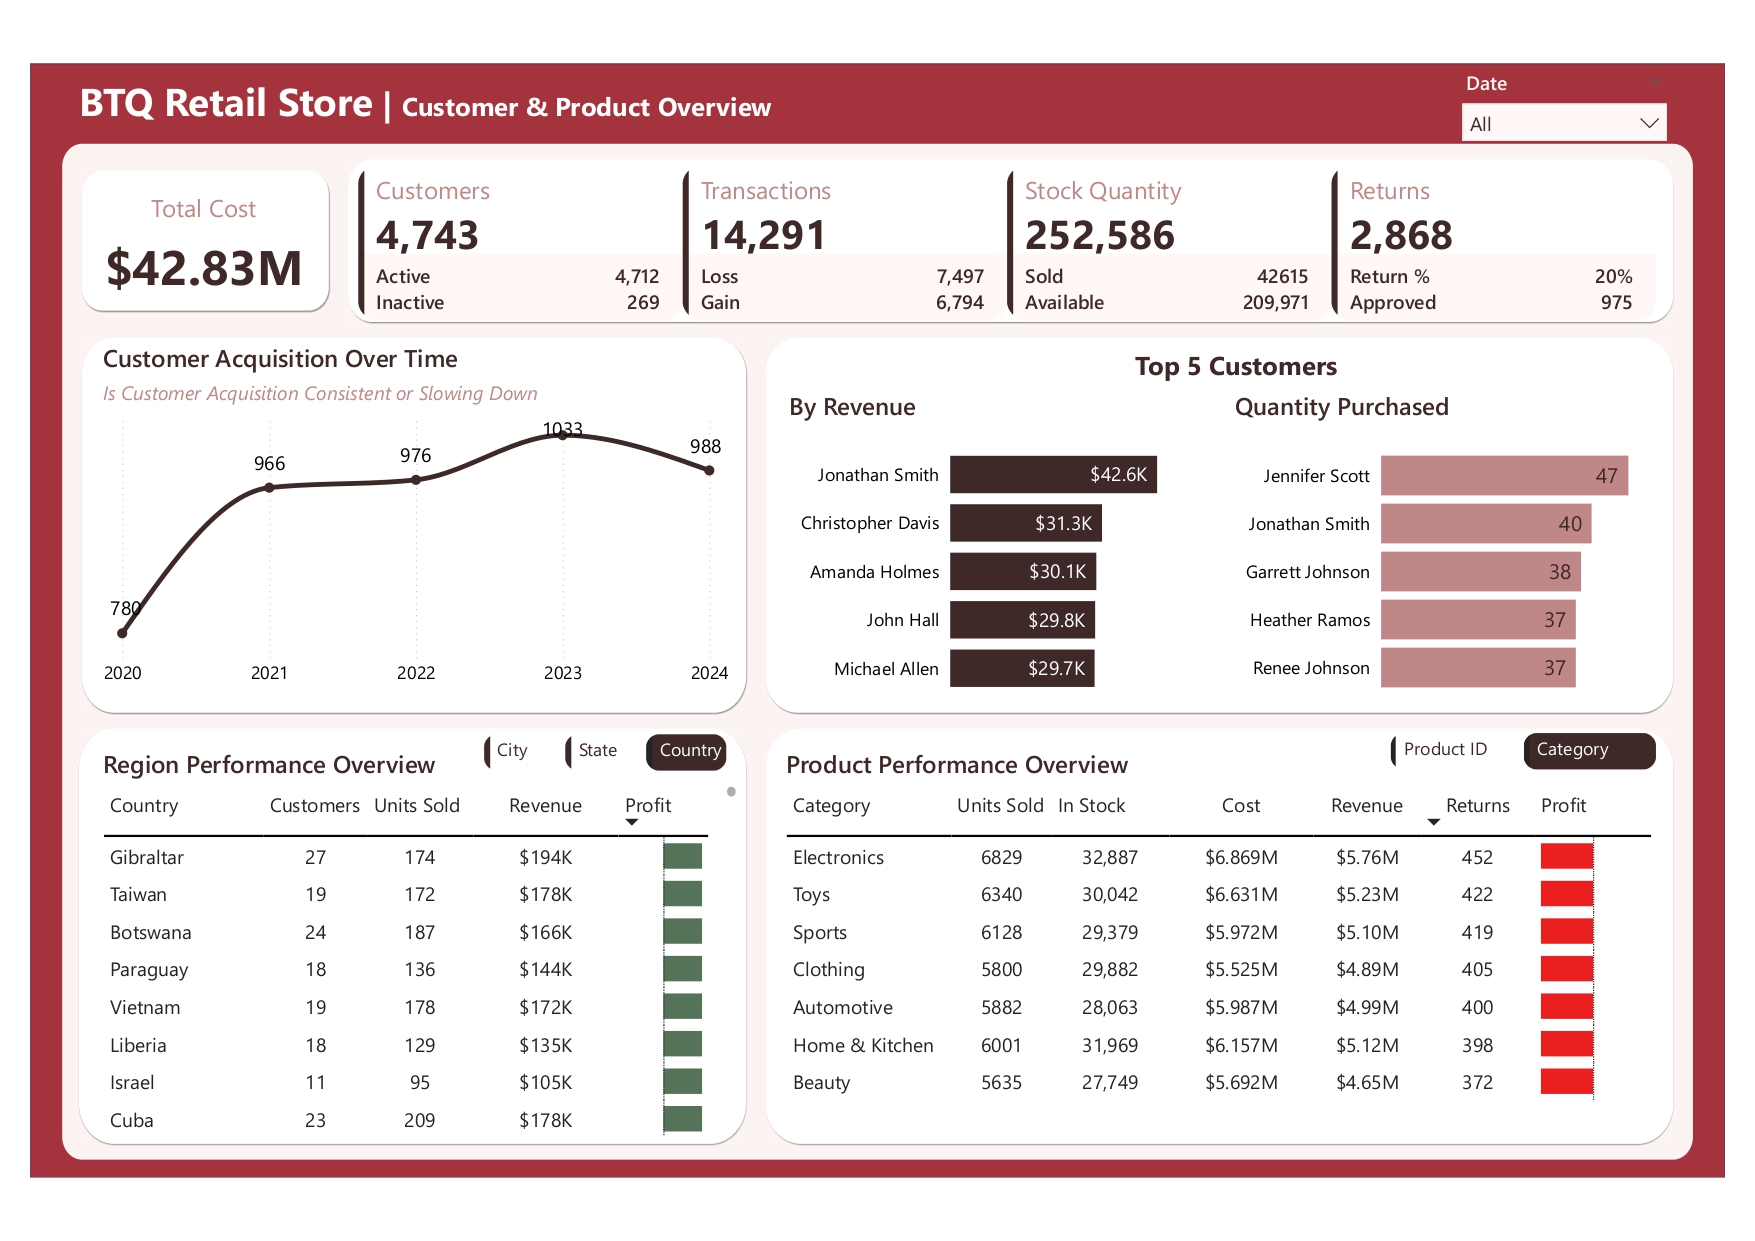

Layout of this report page (visuals, bound fields, positions):
{"tool":"powerbi","page":{"name":"Page 1","canvas":[1400,920],"ordinal":0},"visuals":[{"type":"tableEx","title":"Region Performance Overview","fields":{"Values":["Customers.Country","New Measures.Total Customers","New Measures.Total Units Sold","New Measures.Total Revenue","New Measures.Total Profit"]},"box":[55.2,563.7,533.6,326.2],"z":0},{"type":"textbox","box":[35.1,3.3,669.1,65.2],"z":1000},{"type":"cardVisual","fields":{"Data":["New Measures.Total Customers","New Measures.Total Transactions","New Measures.Total Stock Quantity","New Measures.Total Returns"]},"box":[266,78.6,1082.3,138.8],"z":2000},{"type":"lineChart","title":"Customer Acquisition Over Time","fields":{"Y":["CountNonNull(Customers.Customer ID)"],"Category":["Customers.Registration Date.Variation.Date Hierarchy.Year","Customers.Registration Date.Variation.Date Hierarchy.Quarter","Customers.Registration Date.Variation.Date Hierarchy.Month","Customers.Registration Date.Variation.Date Hierarchy.Day"]},"box":[55.2,229.2,526.9,294.4],"z":3000},{"type":"barChart","title":"By Revenue","fields":{"Category":["Customers.Name"],"Y":["New Measures.Total Revenue"]},"box":[622.3,267.6,371.3,269.3],"z":4000},{"type":"barChart","title":"Quantity Purchased","fields":{"Category":["Customers.Name"],"Y":["New Measures.Total Units Sold"]},"box":[990.3,267.6,364.7,269.3],"z":5000},{"type":"textbox","box":[908.2,229.1,234,39.3],"z":6000},{"type":"tableEx","title":"Product Performance Overview","fields":{"Values":["Products.Category","New Measures.Total Units Sold","New Measures.Available Stock","New Measures.Total Cost","New Measures.Total Revenue","New Measures.Total Returns","New Measures.Total Profit"]},"box":[618.9,563.7,729.3,326.2],"z":7000},{"type":"advancedSlicerVisual","fields":{"Values":["Products 2.Products"]},"box":[1119.3,548.2,229.1,40.9],"z":8000},{"type":"cardVisual","fields":{"Data":["New Measures.Total Cost"]},"box":[35.7,88.2,215.9,120.2],"z":9000},{"type":"advancedSlicerVisual","fields":{"Values":["Location.Location"]},"box":[369.7,548.7,212.4,40.1],"z":10000},{"type":"slicer","fields":{"Values":["Customers.Registration Date.Variation.Date Hierarchy.Year","Customers.Registration Date.Variation.Date Hierarchy.Quarter","Customers.Registration Date.Variation.Date Hierarchy.Month","Customers.Registration Date.Variation.Date Hierarchy.Day"]},"box":[1172.6,0,189,71.9],"z":11000}]}

Visuals, with their boxes on the page's 1400x920 design canvas (x1, y1, x2, y2). These are canvas units, not pixel positions in the 1755x1241 screenshot, which may show the page scaled, cropped or inside an application window:
"Region Performance Overview" tableEx: [55, 564, 589, 890]
textbox: [35, 3, 704, 68]
cardVisual - New Measures.Total Customers x New Measures.Total Transactions: [266, 79, 1348, 217]
"Customer Acquisition Over Time" lineChart: [55, 229, 582, 524]
"By Revenue" barChart: [622, 268, 994, 537]
"Quantity Purchased" barChart: [990, 268, 1355, 537]
textbox: [908, 229, 1142, 268]
"Product Performance Overview" tableEx: [619, 564, 1348, 890]
advancedSlicerVisual - Products 2.Products: [1119, 548, 1348, 589]
cardVisual - New Measures.Total Cost: [36, 88, 252, 208]
advancedSlicerVisual - Location.Location: [370, 549, 582, 589]
slicer - Customers.Registration Date.Variation.Date Hierarchy.Year x Customers.Registration Date.Variation.Date Hierarchy.Quarter: [1173, 0, 1362, 72]
